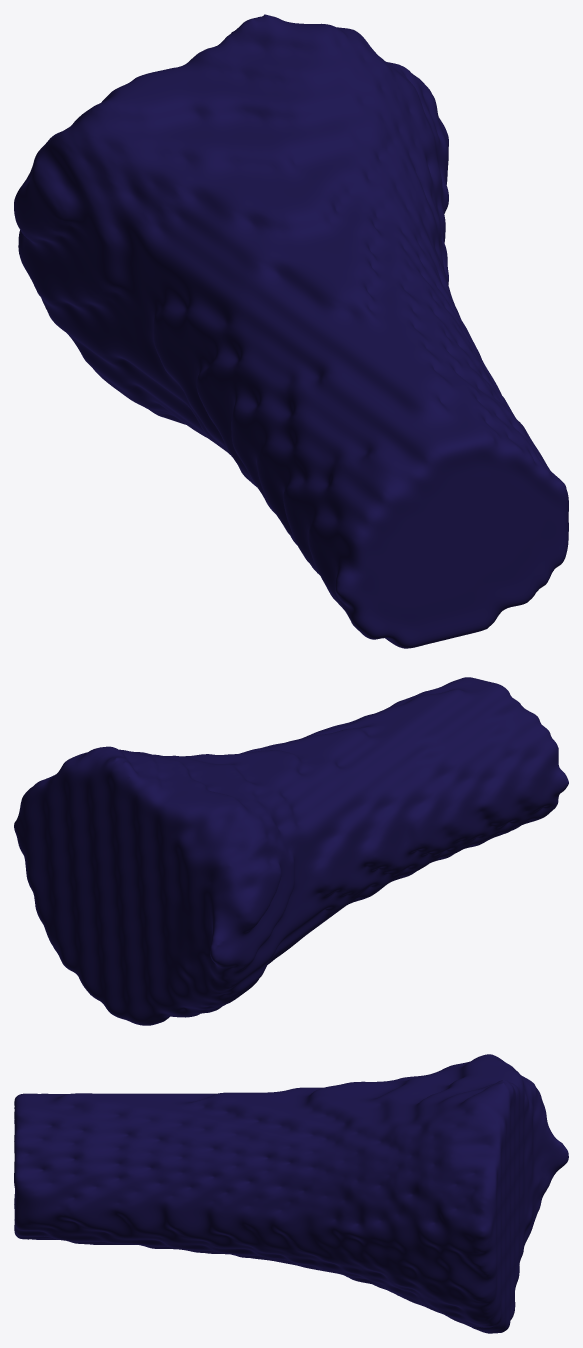
File: proximal_2522.obj
3 views of the same model, one above another, from view 1: azimuth 30°, elevation 25°; view 2: azimuth 150°, elevation 25°; view 3: azimuth 270°, elevation 25° (orthographic). The views are drawn at different scales.
Parts seen in each view (by area): view 1: 2_JOINT_SC_3_segmentation; view 2: 2_JOINT_SC_3_segmentation; view 3: 2_JOINT_SC_3_segmentation.
Boxes of the visible parts, <box> form: 2_JOINT_SC_3_segmentation: <box>14,14,568,648</box>; 2_JOINT_SC_3_segmentation: <box>14,677,568,1025</box>; 2_JOINT_SC_3_segmentation: <box>14,1054,568,1333</box>.
Size of the model in its own units: 0.0486 by 0.0386 by 0.0771.
